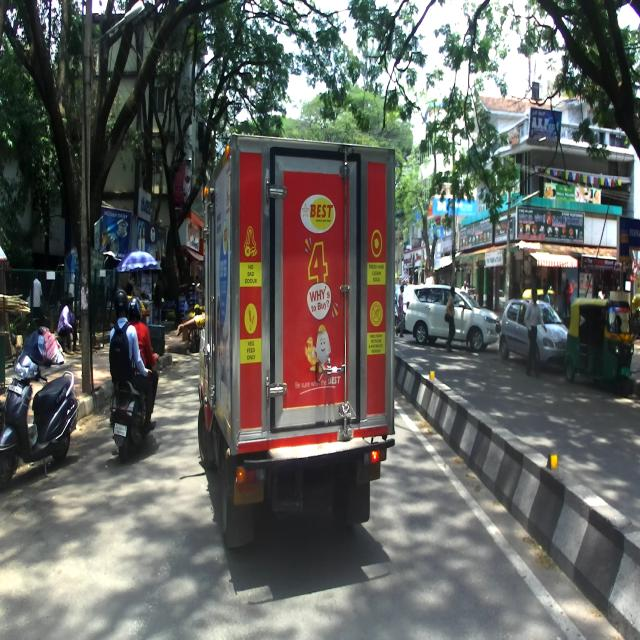electric pole ahead at: (74, 0, 100, 403)
motorcycle ahead at: (1, 356, 80, 488), (110, 380, 159, 457)
truck ahead at: (205, 131, 394, 535)
